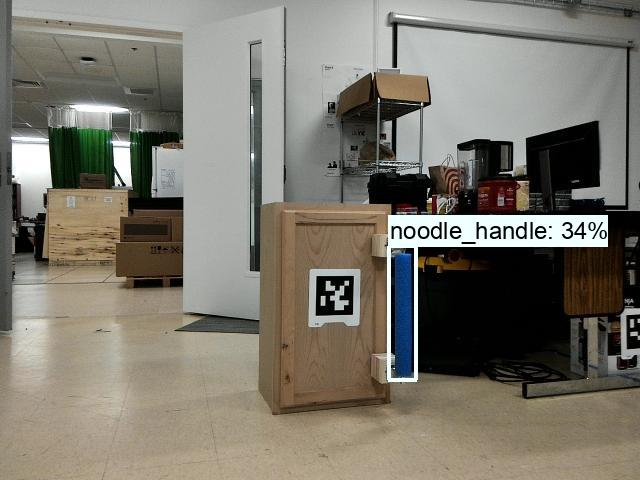noodle_handle: (388, 246, 416, 381)
